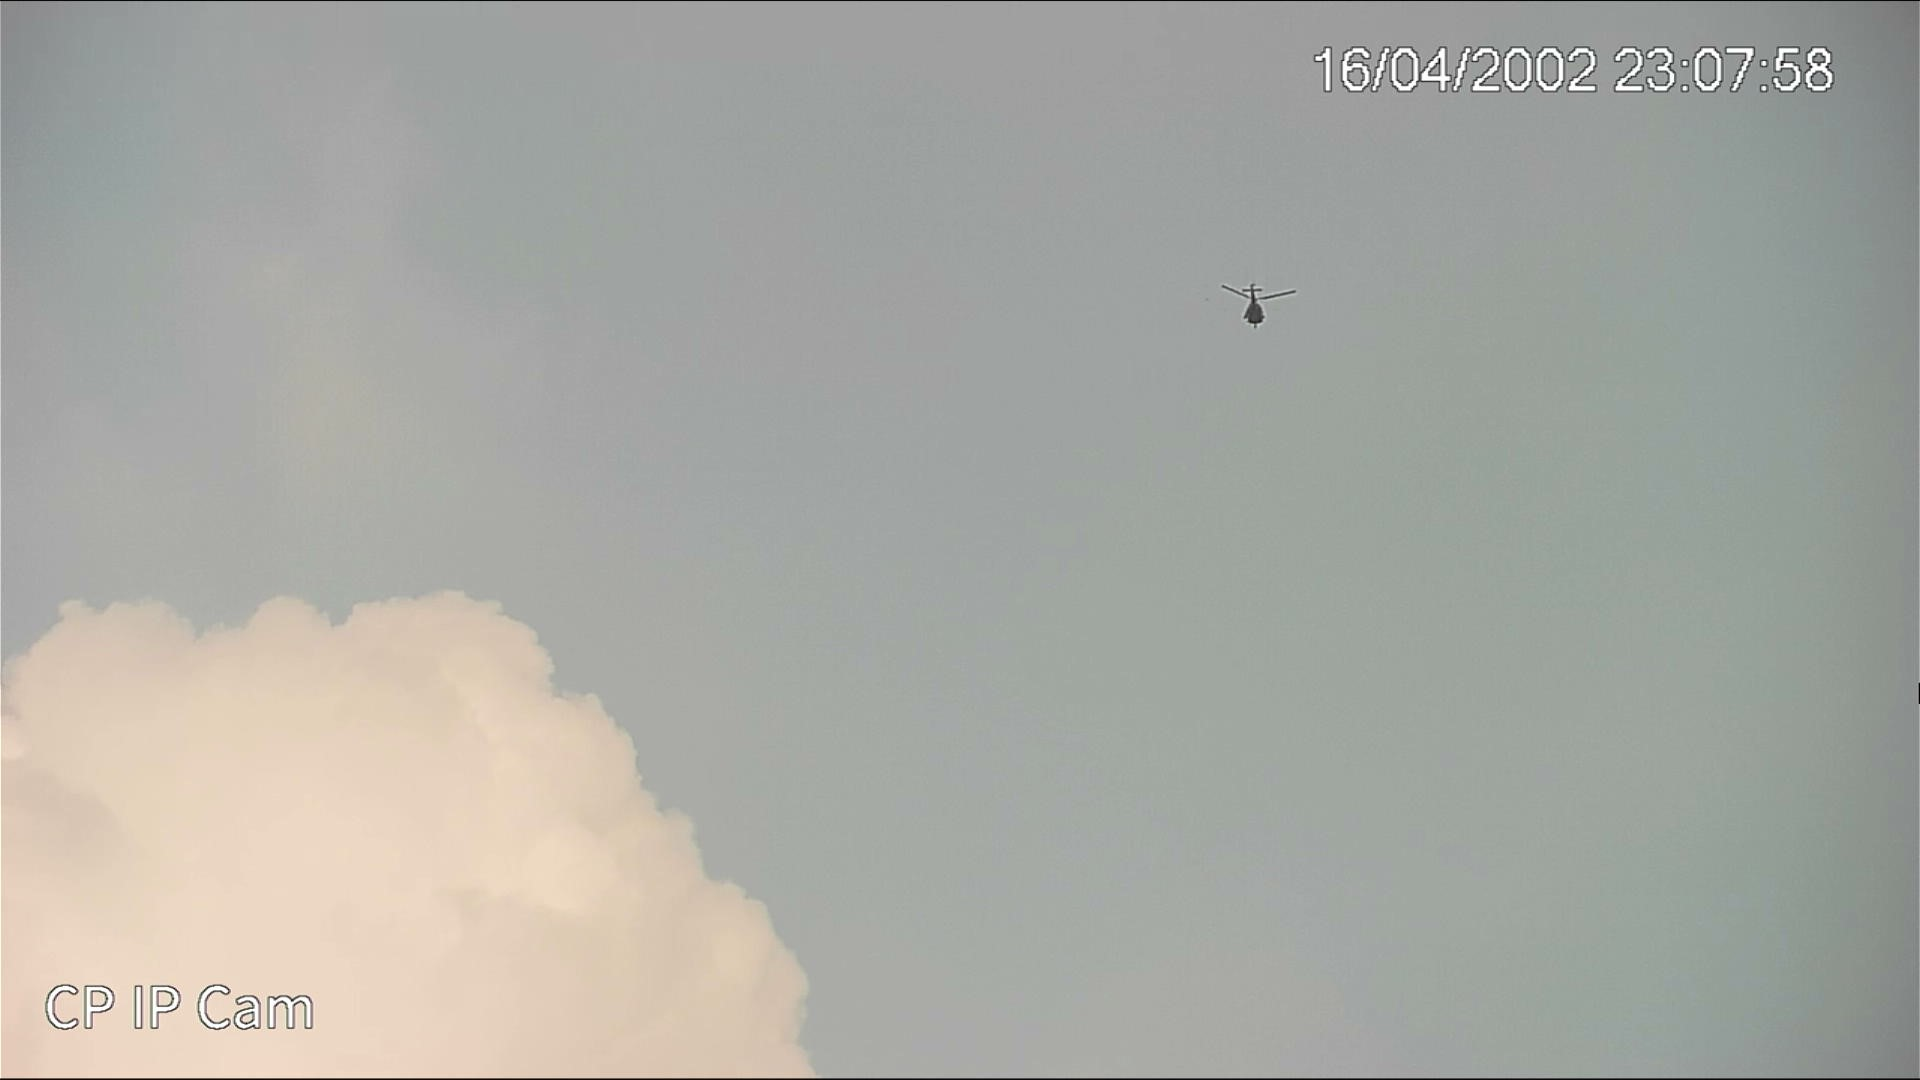SU_30: (1221, 282, 1298, 330)
